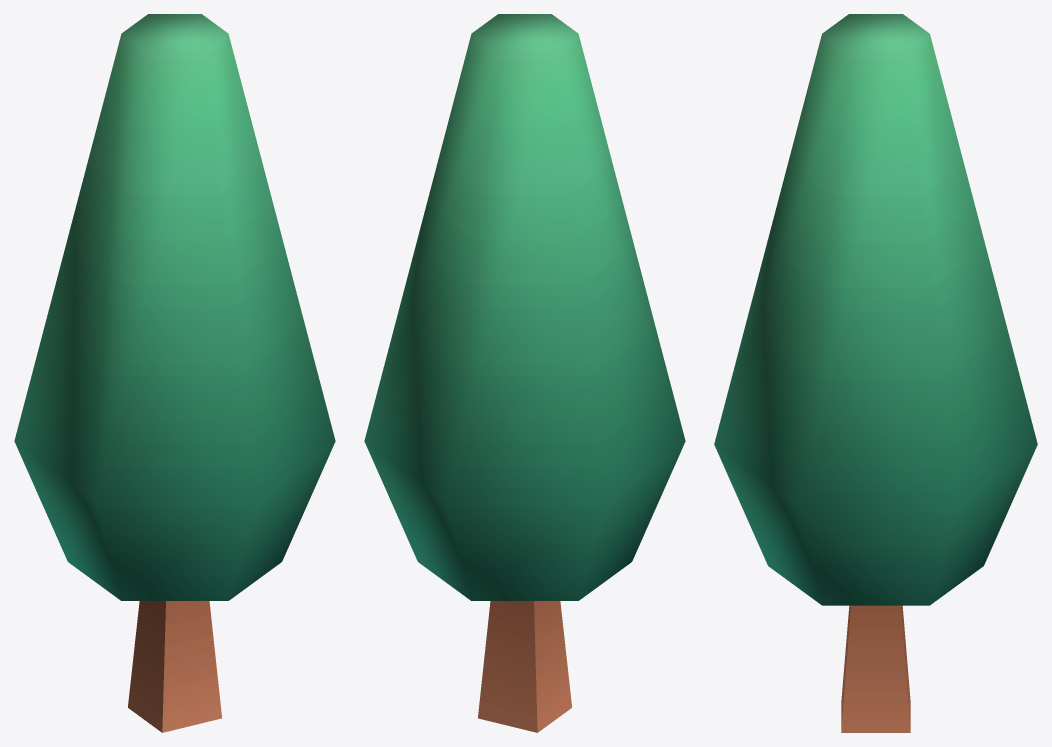
The model's file is tree-small.glb.
The picture shows the model from 3 angles, left to right: view 1: azimuth 30°, elevation 25°; view 2: azimuth 150°, elevation 25°; view 3: azimuth 270°, elevation 25°; orthographic projection.
Visible parts, largest first — view 1: tree-small; view 2: tree-small; view 3: tree-small.
Boxes of the visible parts, x1,y1,x2,y2 form: tree-small: [14, 14, 335, 732]; tree-small: [364, 14, 685, 732]; tree-small: [714, 14, 1037, 732].
Size of the model in its own units: 0.2104 by 0.567 by 0.243.
1 material, 1 textured.
